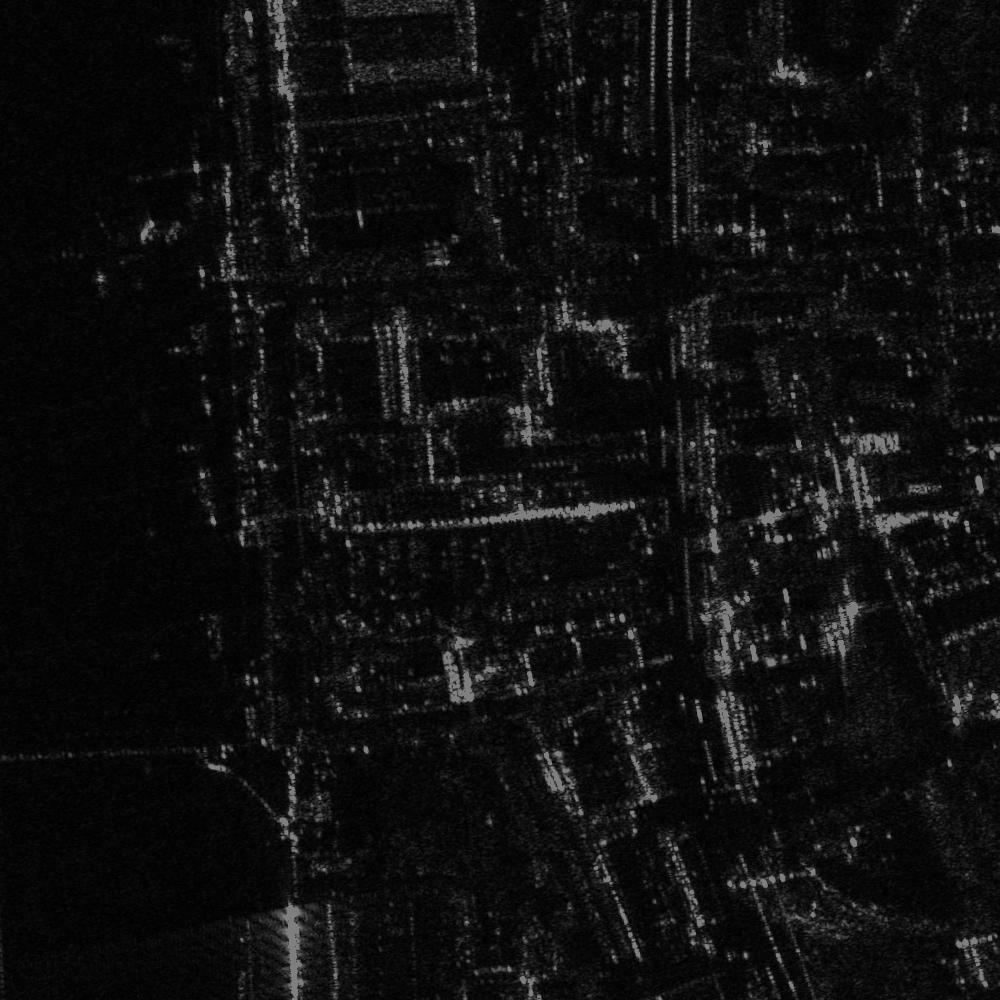A220: (42, 200, 188, 300)
